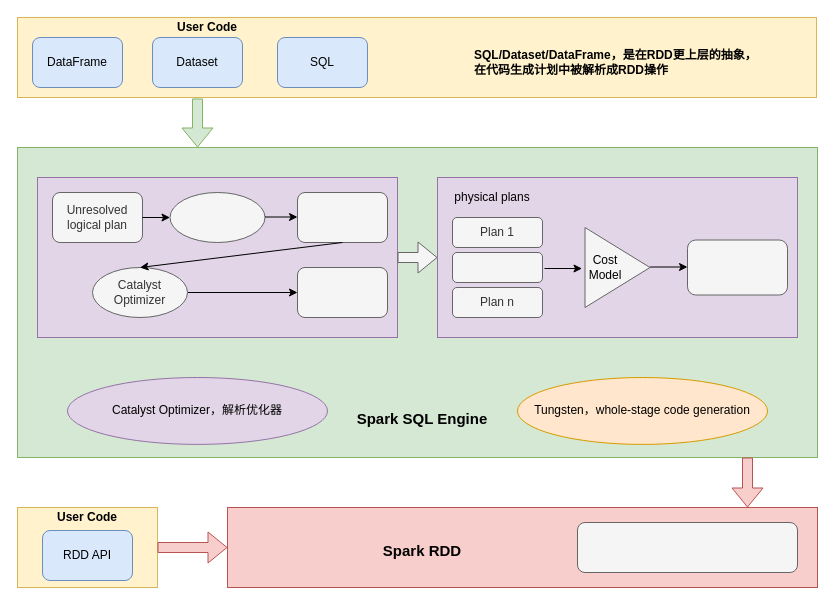
This 835x605 diagram has some shape labels left out. Each missing label, with the centre of its shape:
Best Physical Plan: pixel 737 267
Catalog (table/column): pixel 217 217
Optimized logical plan: pixel 342 292
Physical Plan: Series of RDDs and transformations: pixel 687 547
Plan 2: pixel 497 267
Resolved logical plan: pixel 342 217
